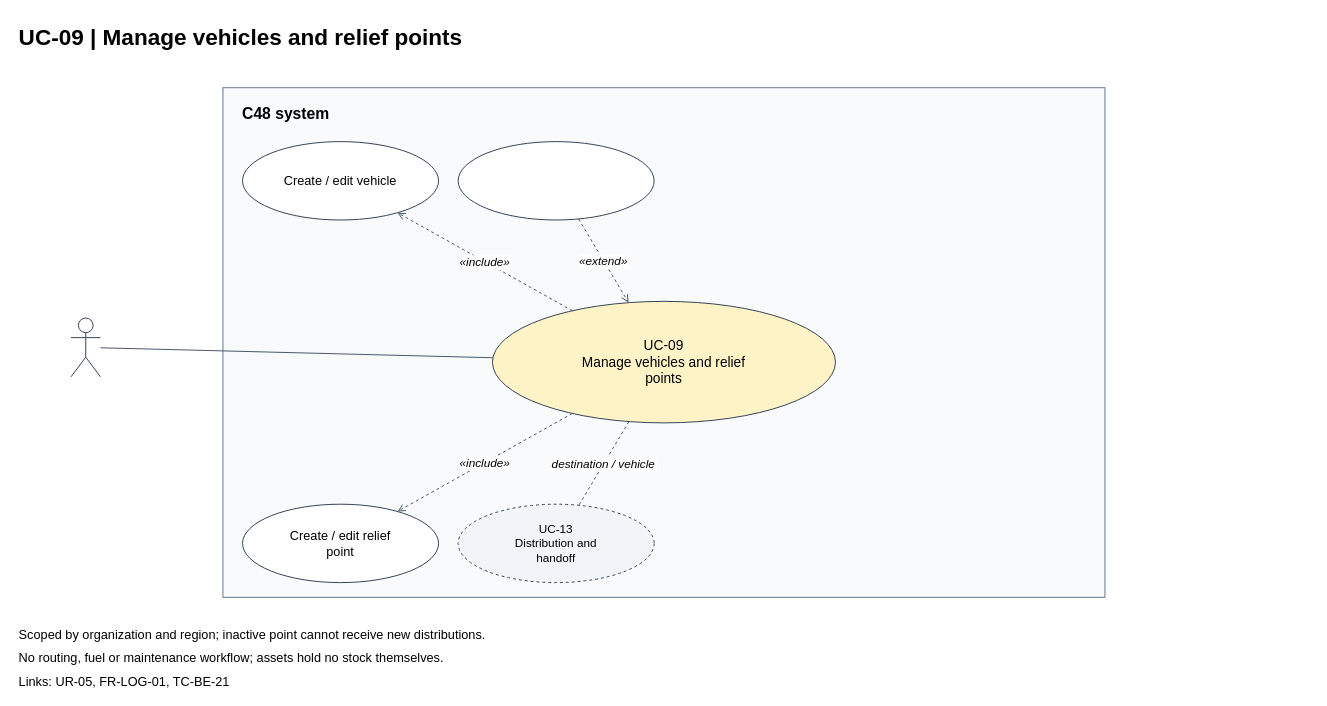
Image size: 1327x706. Some labels were removed from this diagram. Each missing label, with the centre of its shape:
Inactivate asset (history kept): (x=555, y=180)
Operations manager: (x=85, y=347)
